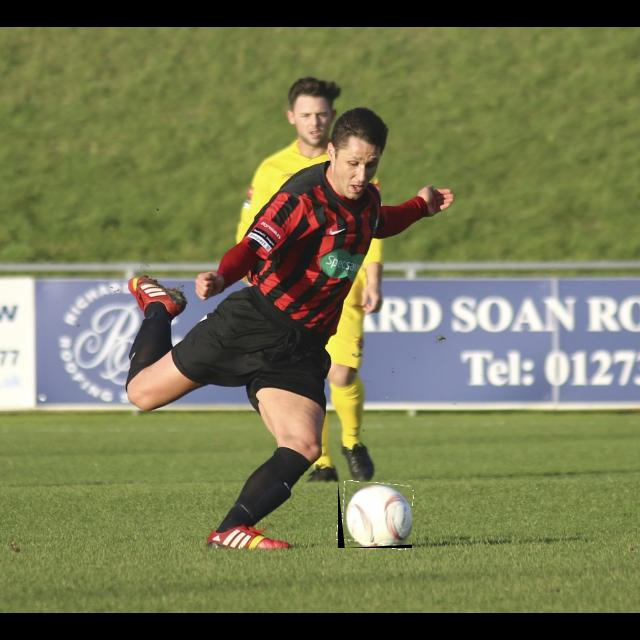Football: (338, 482, 412, 548)
